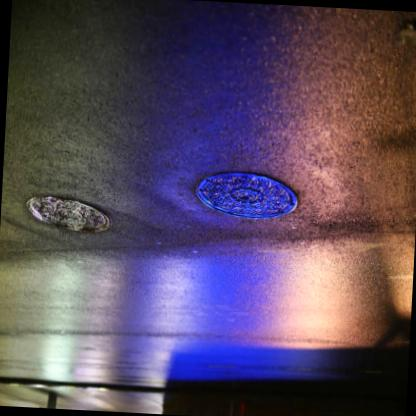manholes: (175, 148, 309, 233), (11, 178, 119, 252)
